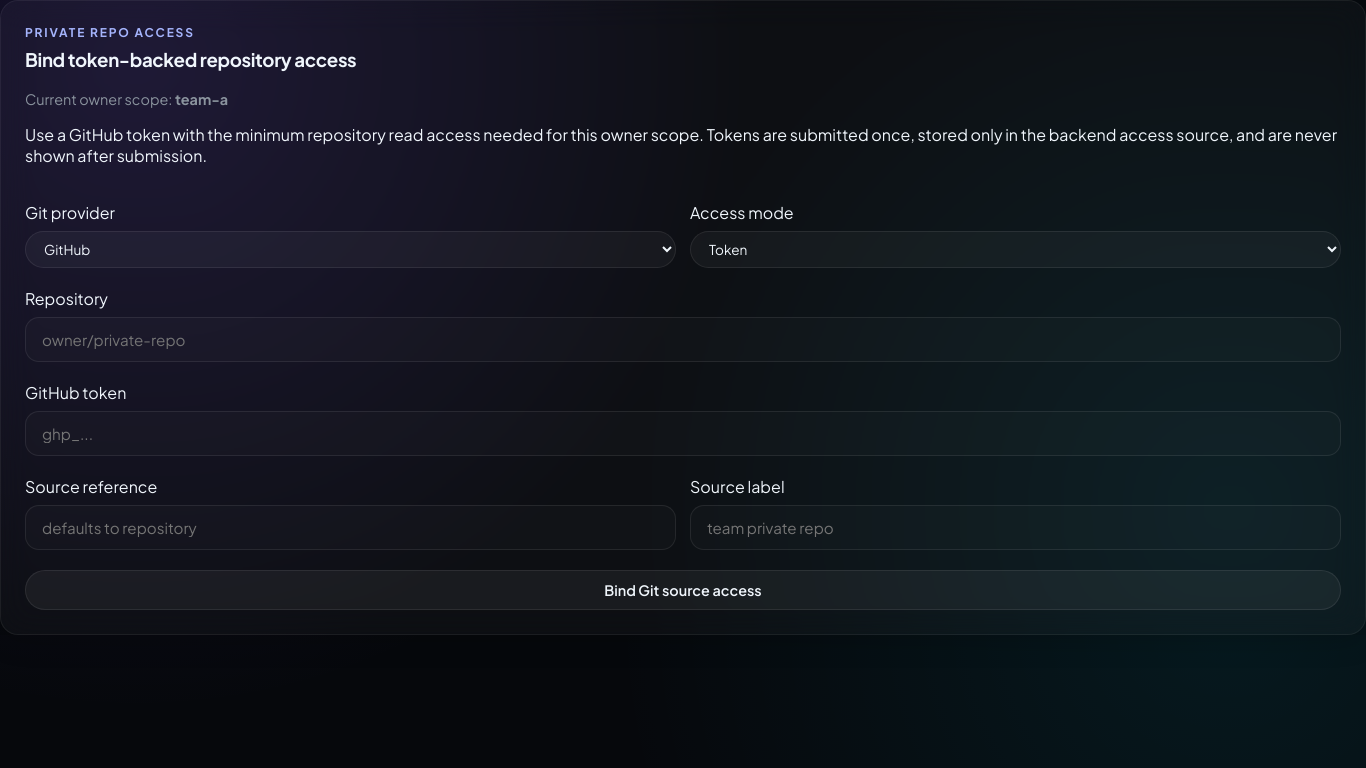
Scenario: PrivateRepoAccessPanel › records local path setup as server-operator-guided without requiring a token
Select "Local path" in the dropdown labelled "Git provider". click: point(350, 249)
box: [25, 231, 676, 268]
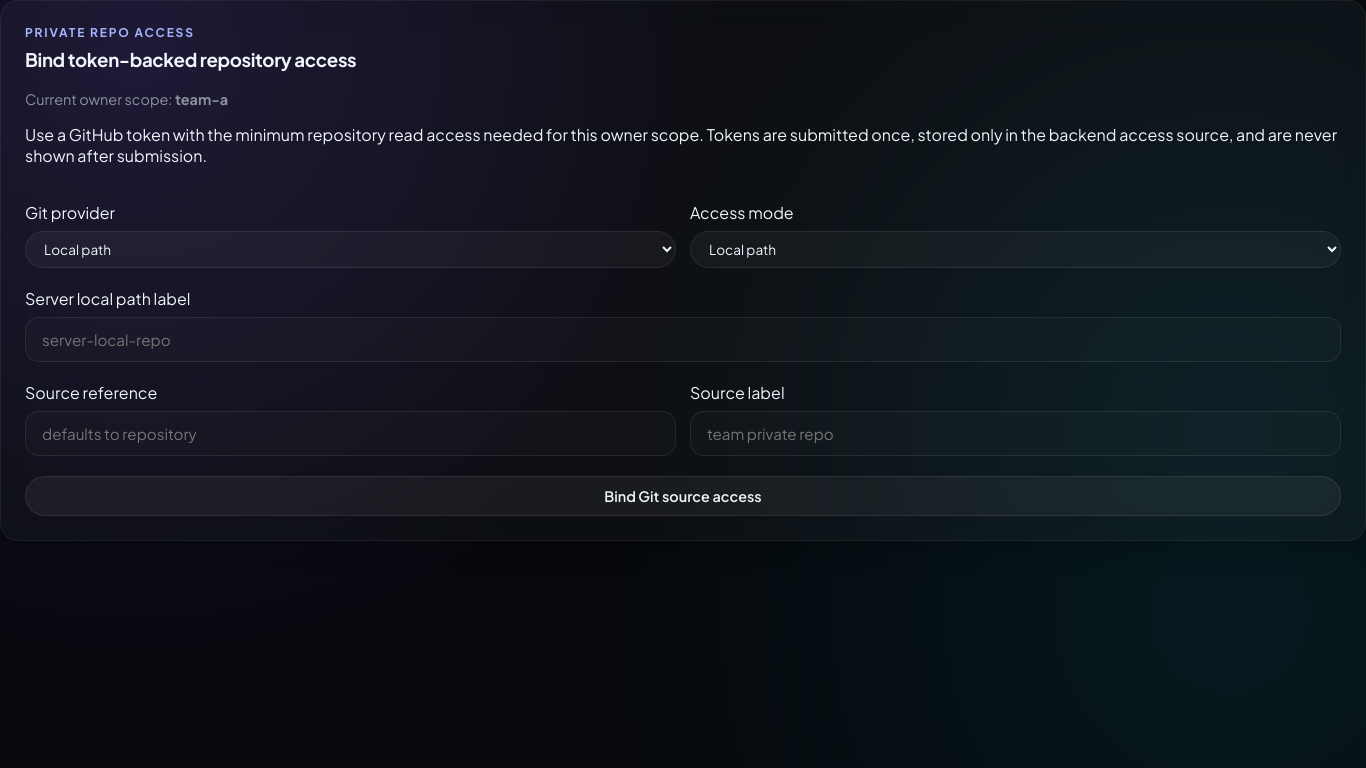
Type "server repo" into the field labelled "Server local path label". click: point(683, 339)
box: [25, 317, 1341, 362]
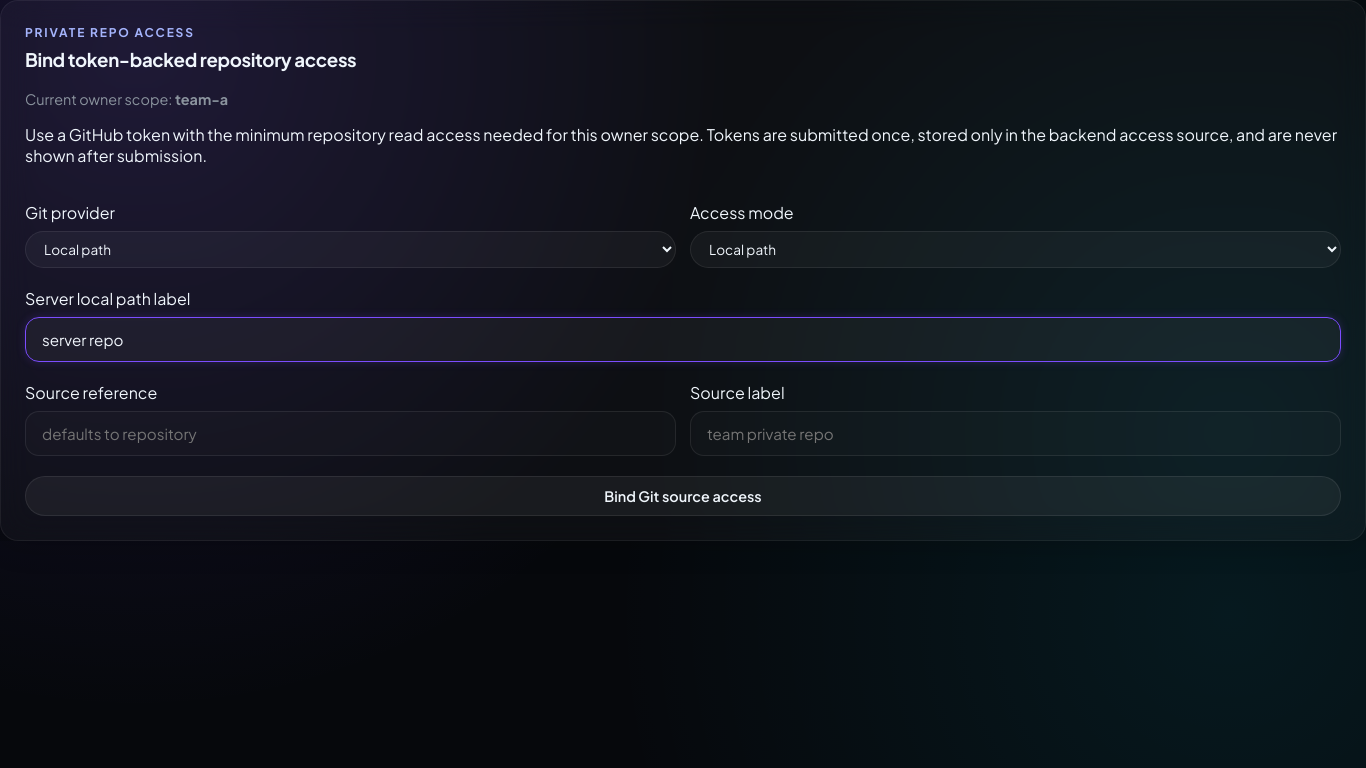
Click the button "Bind Git source access". click: point(683, 496)
box: [25, 476, 1341, 516]
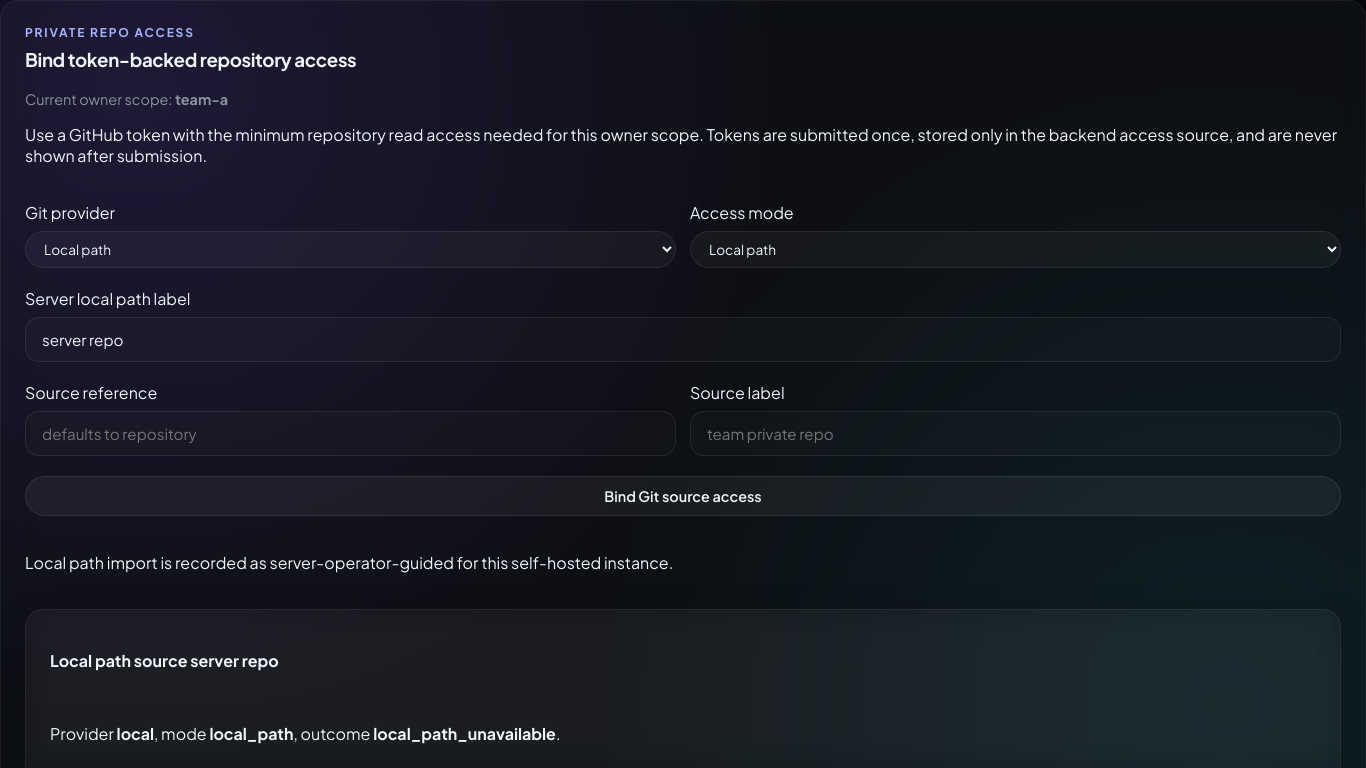
Check: the text "server-operator-guided" is shown, box [25, 552, 673, 573]
Check: the text "outcome" shows "local_path_unavailable", box [373, 723, 556, 744]
